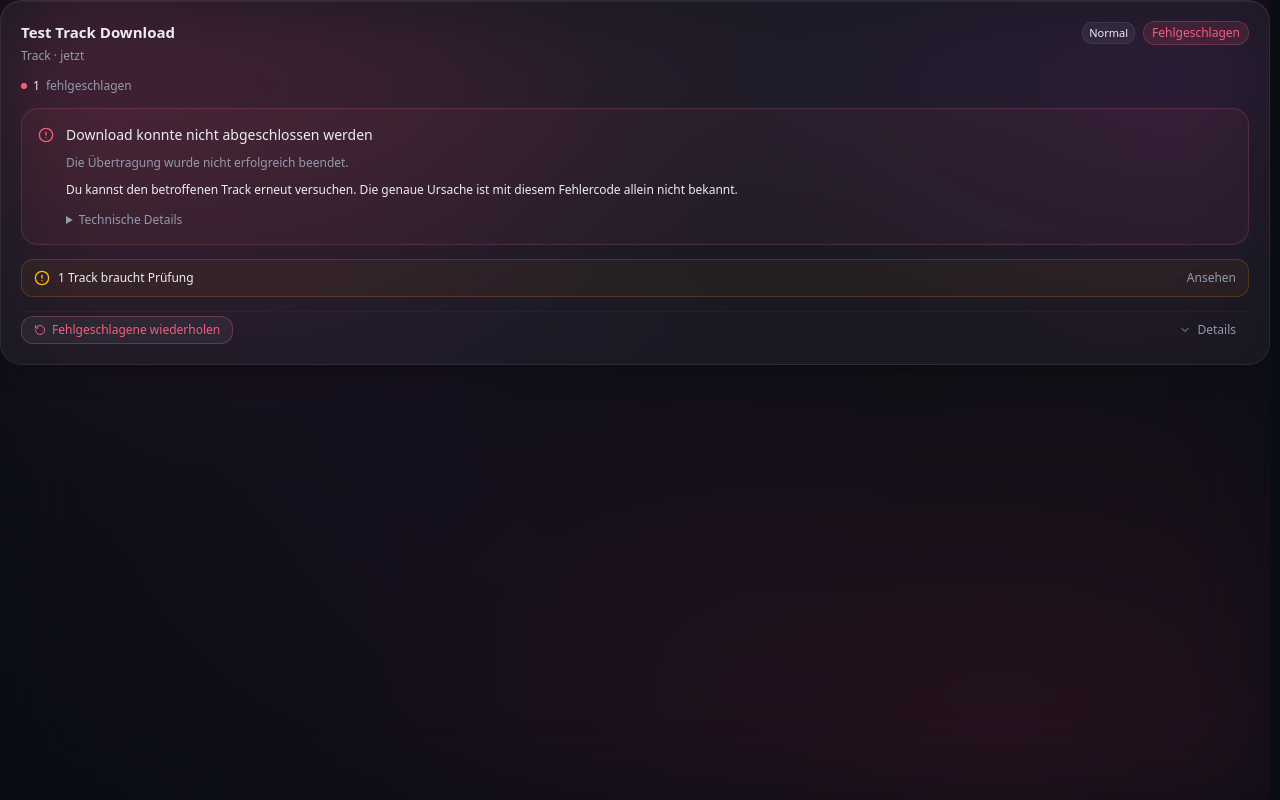
it: JobCard – Step 4 Honest "Waiting for Provider" UX › 6. terminal failed preserves existing failed presentation and affords retry
expect the text "Fehlgeschlagen" is shown: met, box [1143,21,1249,45]
expect the button "Fehlgeschlagene wiederholen" is shown: met, box [21,316,233,344]
Click the button "Details" at (1208, 330), box [1166,316,1249,344]
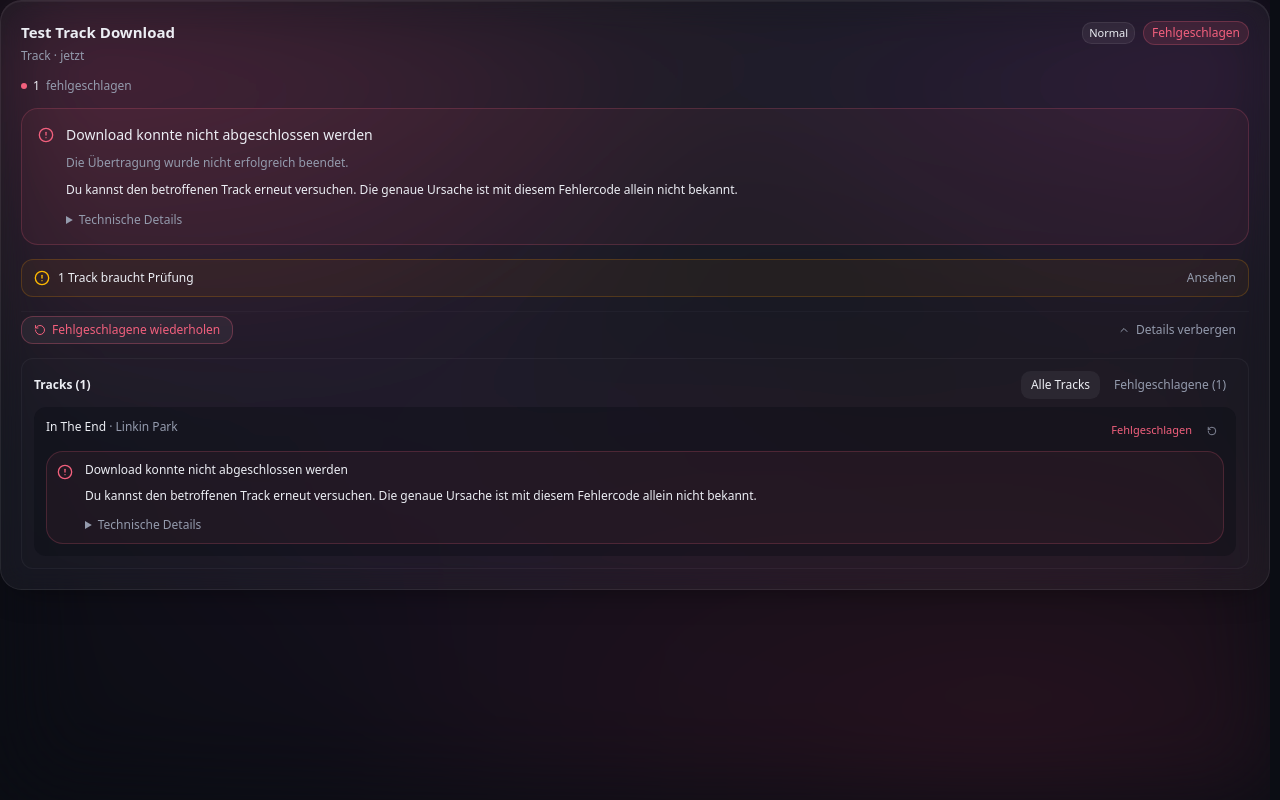
expect the button titled "Track jetzt wiederholen" is shown: met, box [1200,418,1224,442]
